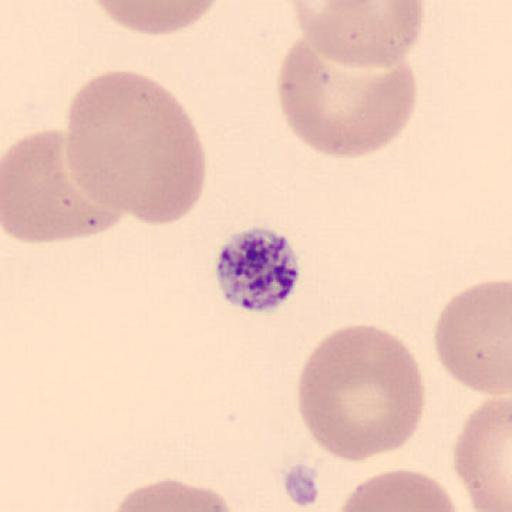Platelet: (211, 224, 304, 313)
RBC: (65, 70, 207, 225), (296, 322, 425, 462), (276, 37, 418, 160), (2, 128, 125, 244), (286, 0, 428, 71), (2, 128, 82, 244), (434, 278, 512, 396), (451, 393, 512, 512), (334, 468, 460, 512), (105, 476, 242, 512), (87, 0, 219, 37)
WBC: (0, 221, 300, 512)
